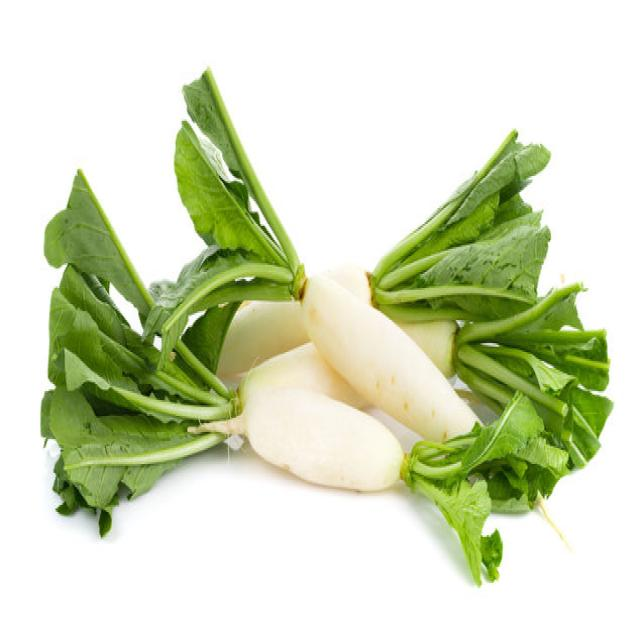Bottle Gourd: (188, 380, 406, 492)
Eggplant: (215, 270, 459, 388)
Onion: (397, 316, 458, 378)
Radish: (39, 64, 613, 585), (178, 64, 487, 446), (298, 270, 484, 444), (237, 340, 372, 412), (215, 297, 309, 380)
